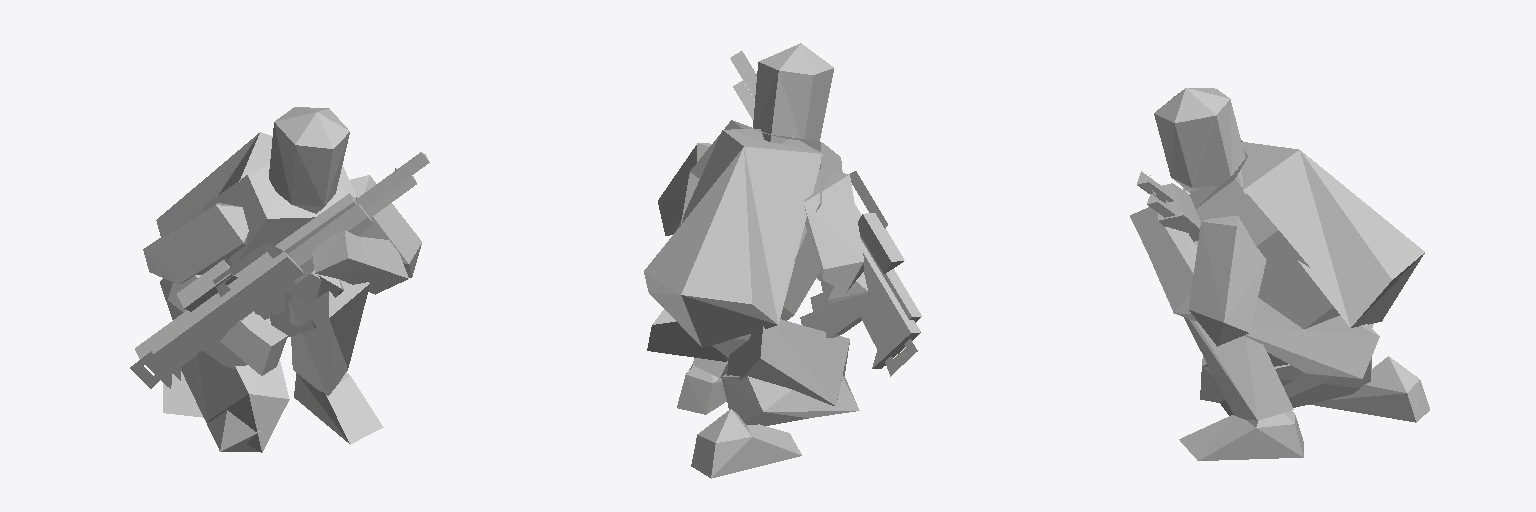
File: npc_seat_ak.obj
3 views of the same model, side by side, from view 1: azimuth 30°, elevation 25°; view 2: azimuth 150°, elevation 25°; view 3: azimuth 270°, elevation 25° (orthographic).
Parts seen in each view (by area): view 1: oc_groza_ID78, head_ID141, mesh_3_ID159, mesh_1_ID177, lr_300_ID60, mesh_7_ID123, mesh_2_ID168, mesh_9_ID105, backpack_ID51, mesh_11_ID87, mesh_8_ID114, mesh_6_ID132 (+4 smaller); view 2: backpack_ID51, lr_300_ID60, mesh_1_ID177, head_ID141, mesh_7_ID123, mesh_10_ID96, mesh_4_ID150, mesh_2_ID168, mesh_0_ID186, mesh_11_ID87, mesh_6_ID132, oc_groza_ID78 (+2 smaller); view 3: backpack_ID51, mesh_6_ID132, mesh_2_ID168, head_ID141, mesh_0_ID186, mesh_3_ID159, mesh_11_ID87, mesh_9_ID105, mesh_10_ID96, lr_300_ID60, mesh_4_ID150, mesh_1_ID177.
Boxes of the visible parts, x1=… form: oc_groza_ID78: x1=148, y1=204, x2=367, y2=380; head_ID141: x1=269, y1=107, x2=349, y2=213; mesh_3_ID159: x1=289, y1=280, x2=369, y2=395; mesh_1_ID177: x1=160, y1=278, x2=289, y2=452; lr_300_ID60: x1=135, y1=152, x2=429, y2=388; mesh_7_ID123: x1=143, y1=203, x2=248, y2=284; mesh_2_ID168: x1=204, y1=165, x2=356, y2=272; mesh_9_ID105: x1=312, y1=230, x2=408, y2=294; backpack_ID51: x1=156, y1=132, x2=272, y2=236; mesh_11_ID87: x1=294, y1=372, x2=383, y2=444; mesh_8_ID114: x1=168, y1=275, x2=287, y2=375; mesh_6_ID132: x1=350, y1=175, x2=421, y2=277; backpack_ID51: x1=644, y1=129, x2=822, y2=347; lr_300_ID60: x1=730, y1=51, x2=920, y2=368; mesh_1_ID177: x1=727, y1=319, x2=849, y2=405; head_ID141: x1=753, y1=43, x2=833, y2=143; mesh_7_ID123: x1=804, y1=169, x2=863, y2=292; mesh_10_ID96: x1=691, y1=409, x2=801, y2=478; mesh_4_ID150: x1=721, y1=375, x2=859, y2=425; mesh_2_ID168: x1=681, y1=120, x2=842, y2=358; mesh_0_ID186: x1=647, y1=309, x2=727, y2=361; mesh_11_ID87: x1=677, y1=365, x2=726, y2=414; mesh_6_ID132: x1=658, y1=143, x2=711, y2=235; oc_groza_ID78: x1=810, y1=171, x2=921, y2=322; backpack_ID51: x1=1236, y1=142, x2=1424, y2=327; mesh_6_ID132: x1=1188, y1=215, x2=1266, y2=346; mesh_2_ID168: x1=1190, y1=140, x2=1339, y2=328; head_ID141: x1=1154, y1=88, x2=1246, y2=189; mesh_0_ID186: x1=1244, y1=298, x2=1379, y2=378; mesh_3_ID159: x1=1184, y1=317, x2=1293, y2=420; mesh_11_ID87: x1=1179, y1=411, x2=1303, y2=460; mesh_9_ID105: x1=1130, y1=207, x2=1198, y2=322; mesh_10_ID96: x1=1309, y1=356, x2=1429, y2=422; lr_300_ID60: x1=1137, y1=171, x2=1200, y2=241; mesh_4_ID150: x1=1219, y1=357, x2=1371, y2=415; mesh_1_ID177: x1=1200, y1=323, x2=1373, y2=402.
Size of the model in its own units: 1.08 by 1.31 by 1.02.